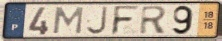4: (27, 5, 51, 37)
9: (171, 5, 196, 36)
F: (110, 4, 141, 36)
J: (85, 5, 109, 36)
M: (52, 6, 86, 35)
R: (139, 5, 169, 35)
